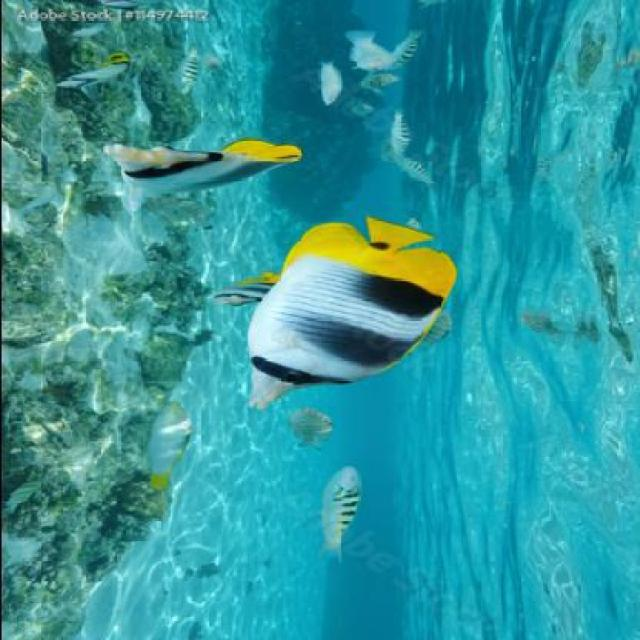ButterflyFish: (246, 215, 461, 406), (100, 138, 300, 197)
